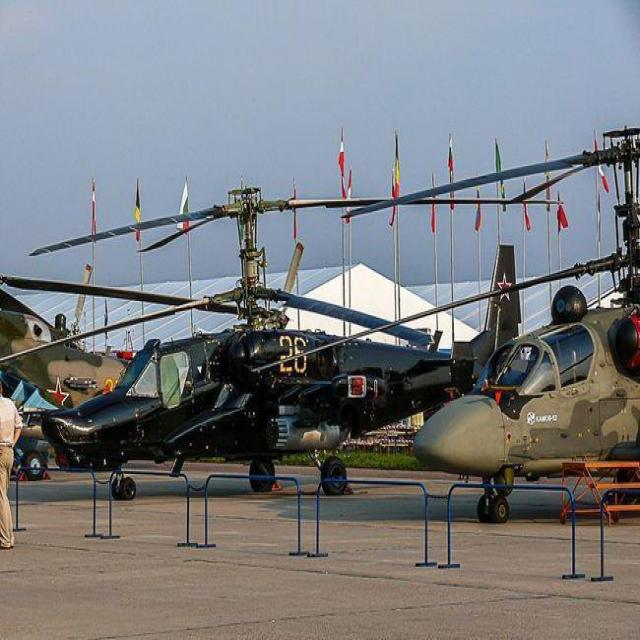MIL_HELO: (10, 192, 466, 507), (339, 127, 640, 527)
